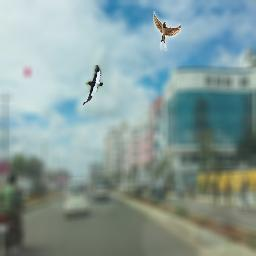Swallow: (153, 11, 181, 51)
Woodpecker: (83, 65, 103, 105)
